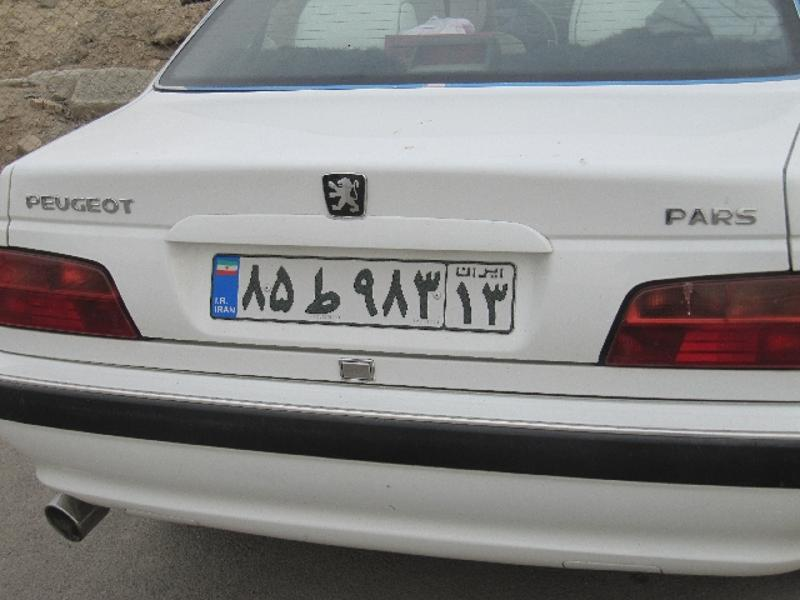Plate: (196, 243, 540, 332)
